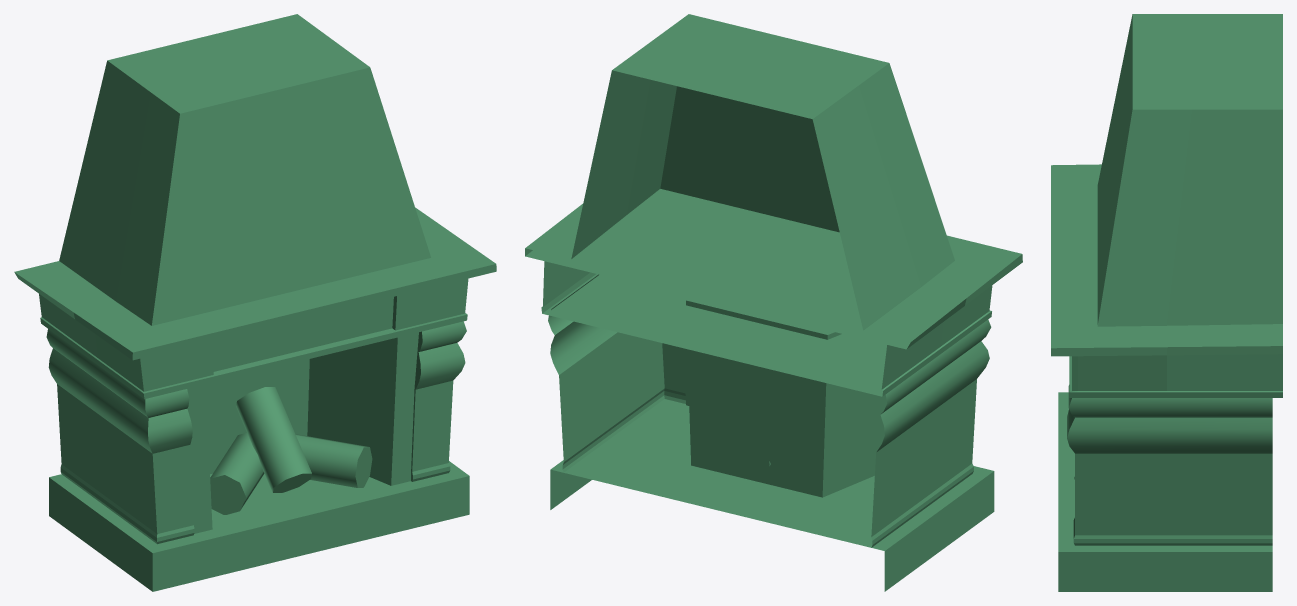
The model's file is Fireplace_V4.fbx.
The picture shows the model from 3 angles, left to right: view 1: azimuth 30°, elevation 25°; view 2: azimuth 150°, elevation 25°; view 3: azimuth 270°, elevation 25°; orthographic projection. The views are drawn at different scales.
Parts seen in each view (by area): view 1: Fireplace_low; view 2: Fireplace_low; view 3: Fireplace_low.
Boxes of the visible parts, x1,y1,x2,y2 form: Fireplace_low: (14,14,496,591); Fireplace_low: (525,14,1022,591); Fireplace_low: (1051,14,1282,591).
Bounding box in the file's own units: 3.54 × 3.99 × 1.86.
